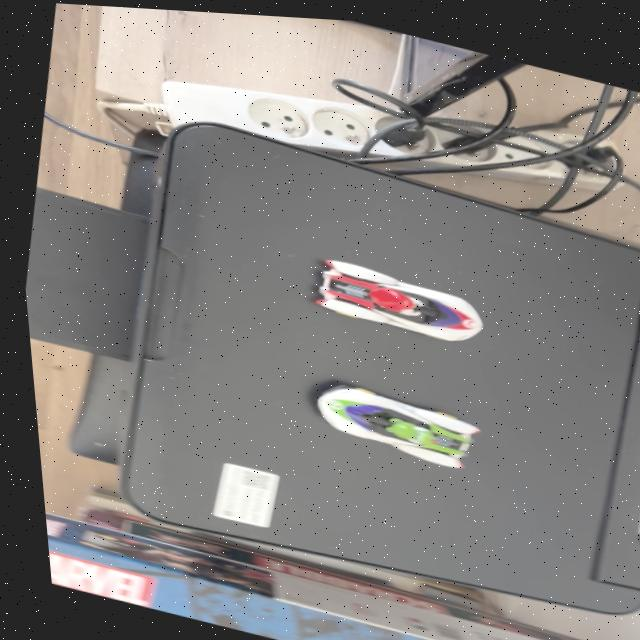mario: (289, 247, 495, 355)
yoshi: (288, 367, 492, 479)
